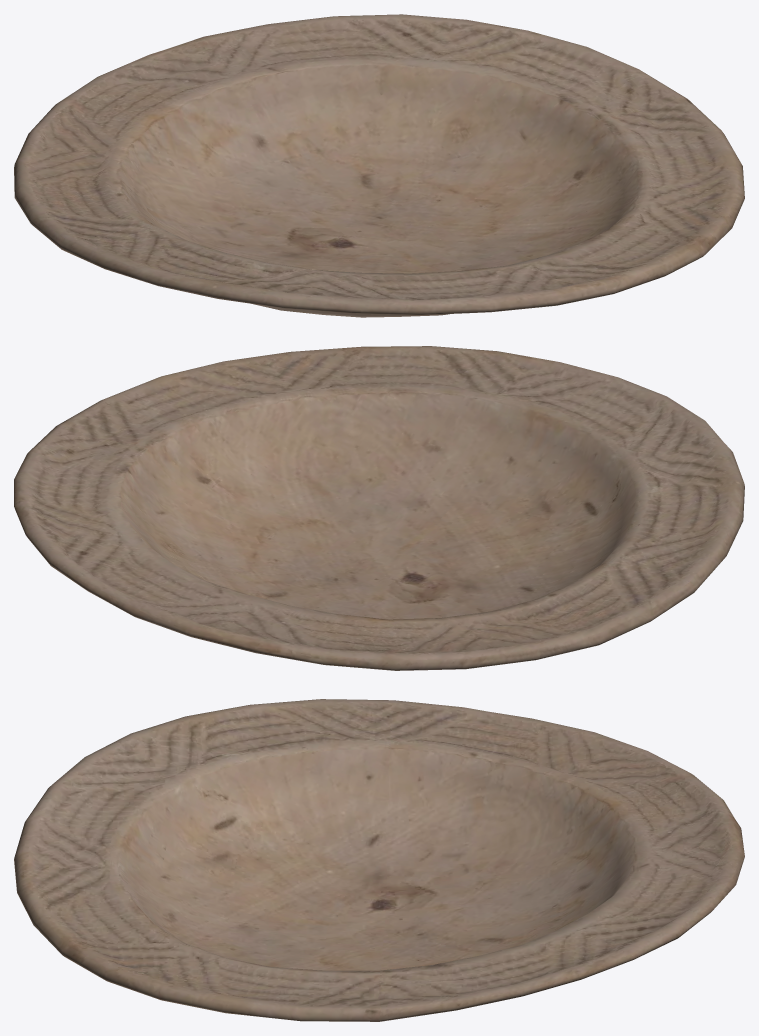
The model's file is carved_wooden_plate.glb.
The picture shows the model from 3 angles, top to bottom: view 1: azimuth 30°, elevation 25°; view 2: azimuth 150°, elevation 25°; view 3: azimuth 270°, elevation 25°; orthographic projection. The views are drawn at different scales.
Visible parts, largest first — view 1: carved_wooden_plate; view 2: carved_wooden_plate; view 3: carved_wooden_plate.
Part boxes in pixels (x1=…): carved_wooden_plate: x1=14, y1=14, x2=744, y2=317; carved_wooden_plate: x1=14, y1=346, x2=744, y2=670; carved_wooden_plate: x1=14, y1=699, x2=744, y2=1021.
Bounding box in the file's own units: 0.2718 × 0.0381 × 0.2688.
Materials: 1 (1 with a texture image).
